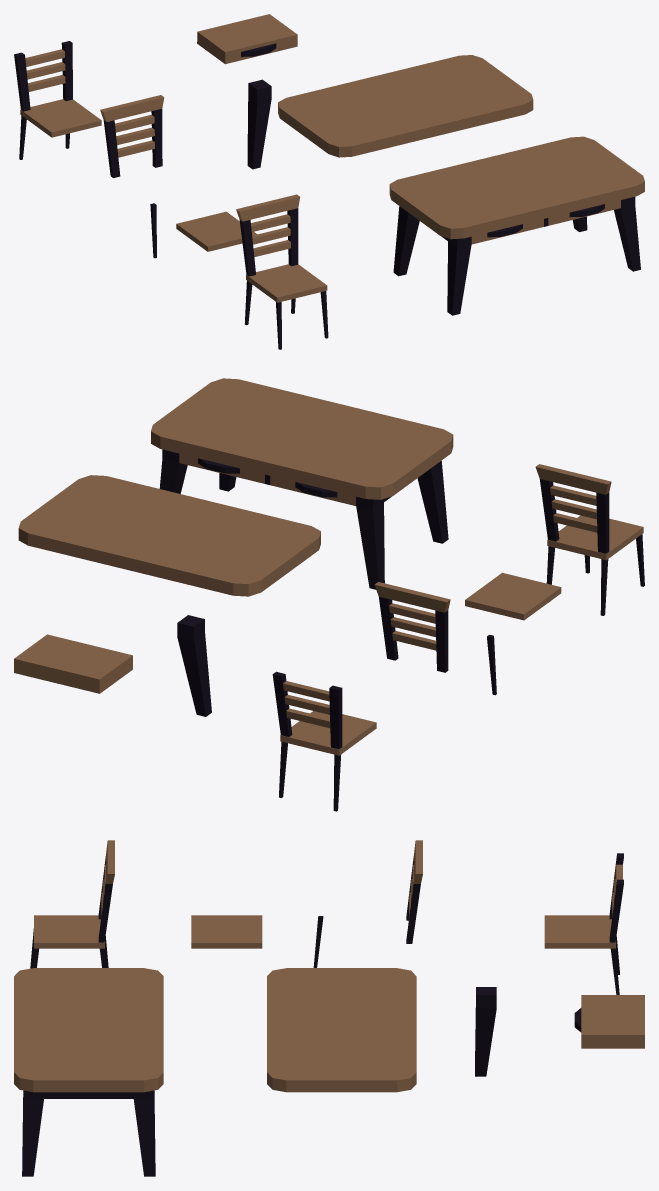
File: DiningFurniture.fbx
3 renders of one model, top to bottom at view 1: azimuth 30°, elevation 25°; view 2: azimuth 150°, elevation 25°; view 3: azimuth 270°, elevation 25°, orthographic. The views are drawn at different scales.
Parts seen in each view (by area): view 1: Cube, Cube.001, Chair, ChairBroken, Cube.003, ChairBack, ChairSeat, Cube.002; view 2: Cube, Cube.001, Chair, ChairBroken, Cube.003, ChairBack, ChairSeat, Cube.002; view 3: Cube, Cube.001, Chair, Cube.003, ChairBroken, ChairSeat, Cube.002, ChairBack.
Part boxes in pixels (bbox=[...]): Cube: bbox=[389, 136, 644, 315]; Cube.001: bbox=[278, 55, 533, 157]; Chair: bbox=[236, 194, 328, 349]; ChairBroken: bbox=[14, 41, 101, 159]; Cube.003: bbox=[197, 14, 297, 64]; ChairBack: bbox=[100, 95, 164, 177]; ChairSeat: bbox=[176, 211, 257, 251]; Cube.002: bbox=[247, 79, 271, 169]; Cube: bbox=[151, 378, 453, 589]; Cube.001: bbox=[18, 475, 320, 596]; Chair: bbox=[535, 464, 644, 615]; ChairBroken: bbox=[272, 671, 376, 811]; Cube.003: bbox=[14, 634, 132, 693]; ChairBack: bbox=[374, 582, 450, 672]; ChairSeat: bbox=[465, 572, 561, 620]; Cube.002: bbox=[177, 615, 211, 716]; Cube: bbox=[14, 968, 163, 1176]; Cube.001: bbox=[267, 968, 416, 1092]; Chair: bbox=[30, 840, 114, 968]; Cube.003: bbox=[574, 995, 644, 1048]; ChairBroken: bbox=[544, 853, 623, 994]; ChairSeat: bbox=[191, 915, 262, 948]; Cube.002: bbox=[475, 987, 496, 1076]; ChairBack: bbox=[406, 840, 422, 943].
Size of the model in its own units: 768 by 236 by 998.
